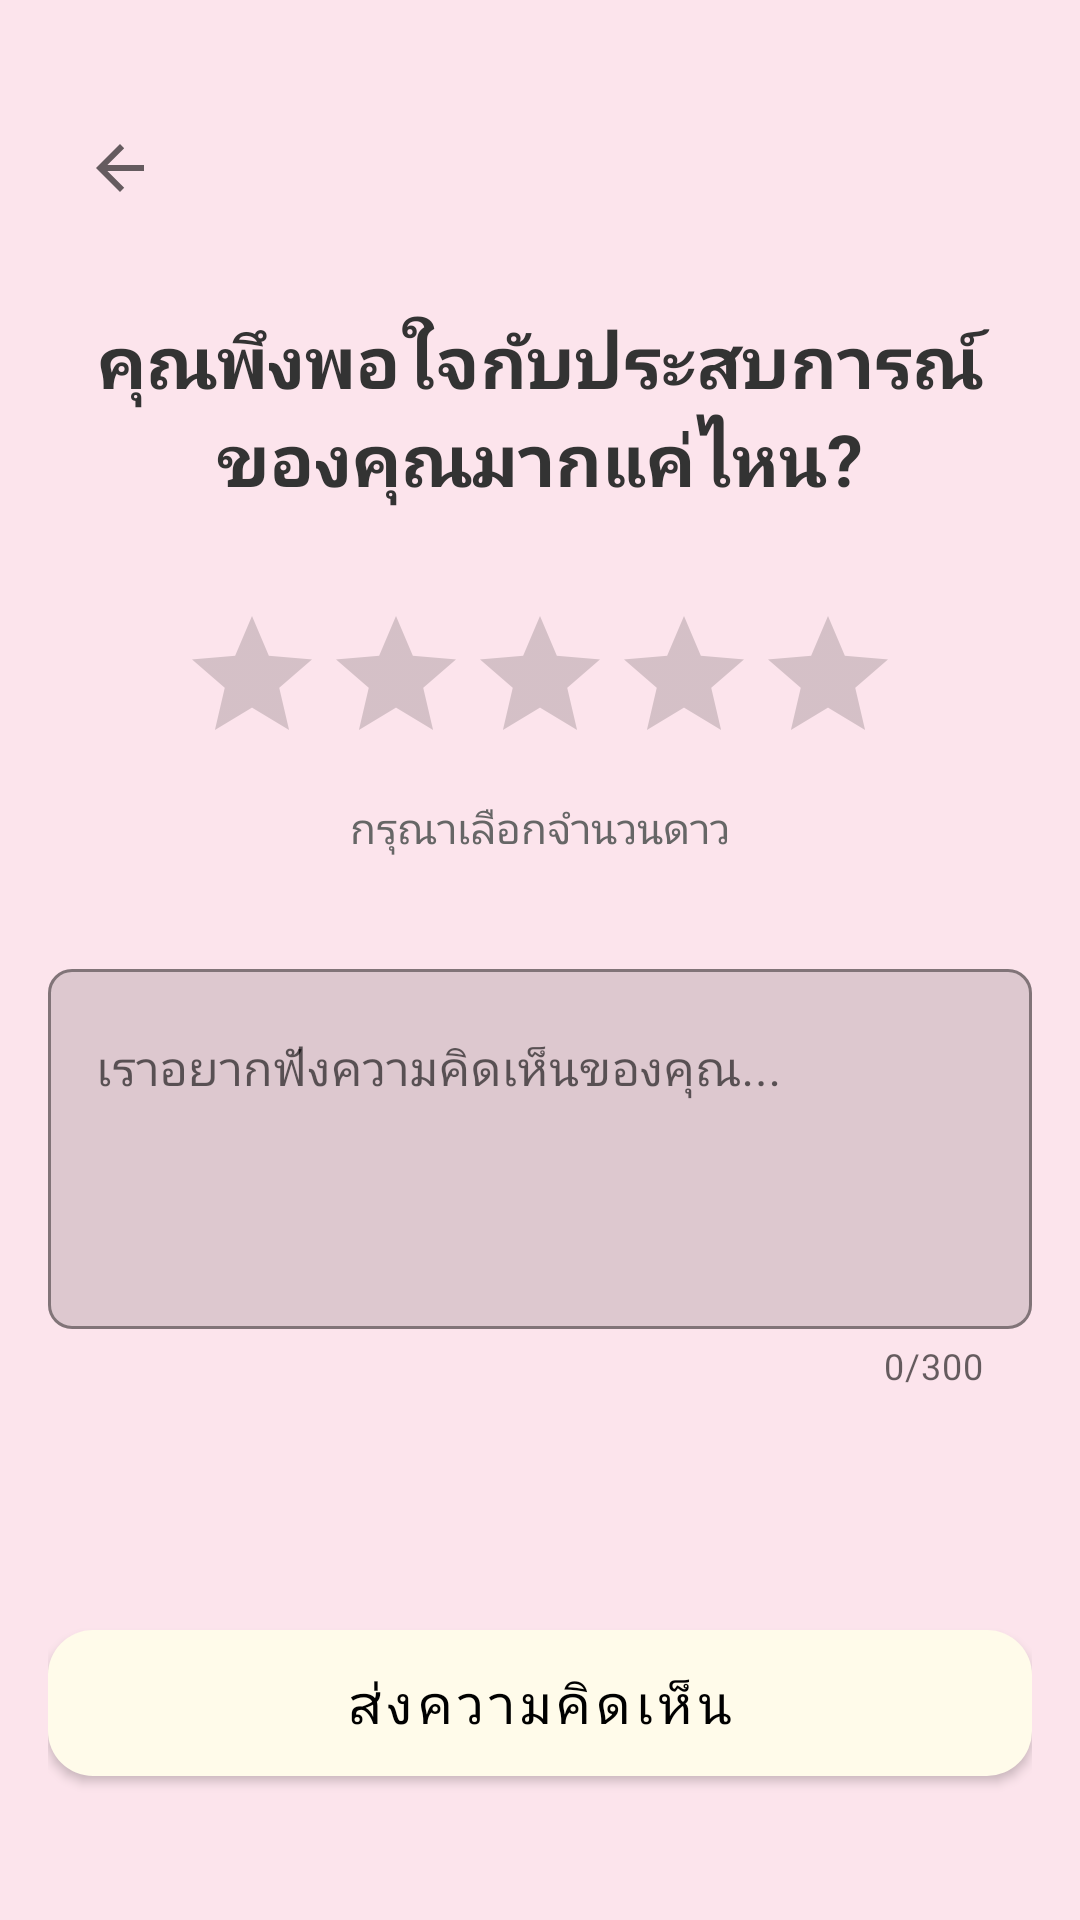

Where to tap for icons on this 1080*1920 app screen, as point (x, y):
ย้อนกลับ: point (120, 168)
